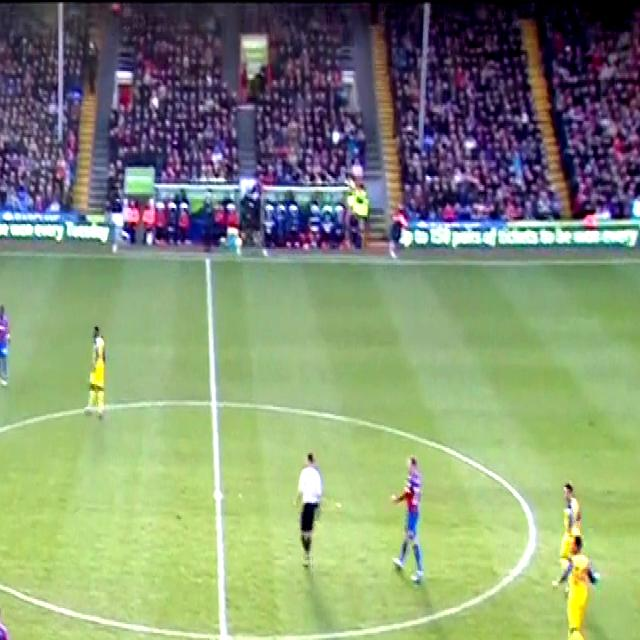referee: (288, 446, 335, 576)
soccer-player: (378, 455, 436, 595), (554, 546, 602, 640), (552, 480, 590, 584), (77, 319, 113, 423), (0, 299, 19, 391), (0, 601, 19, 640)
